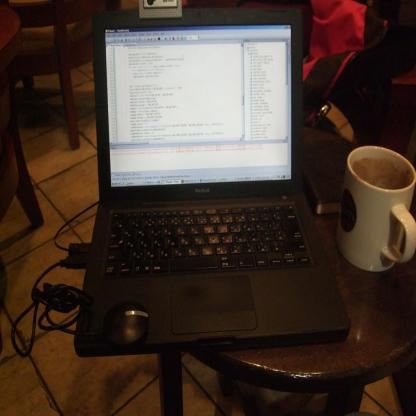board: (74, 9, 350, 358)
